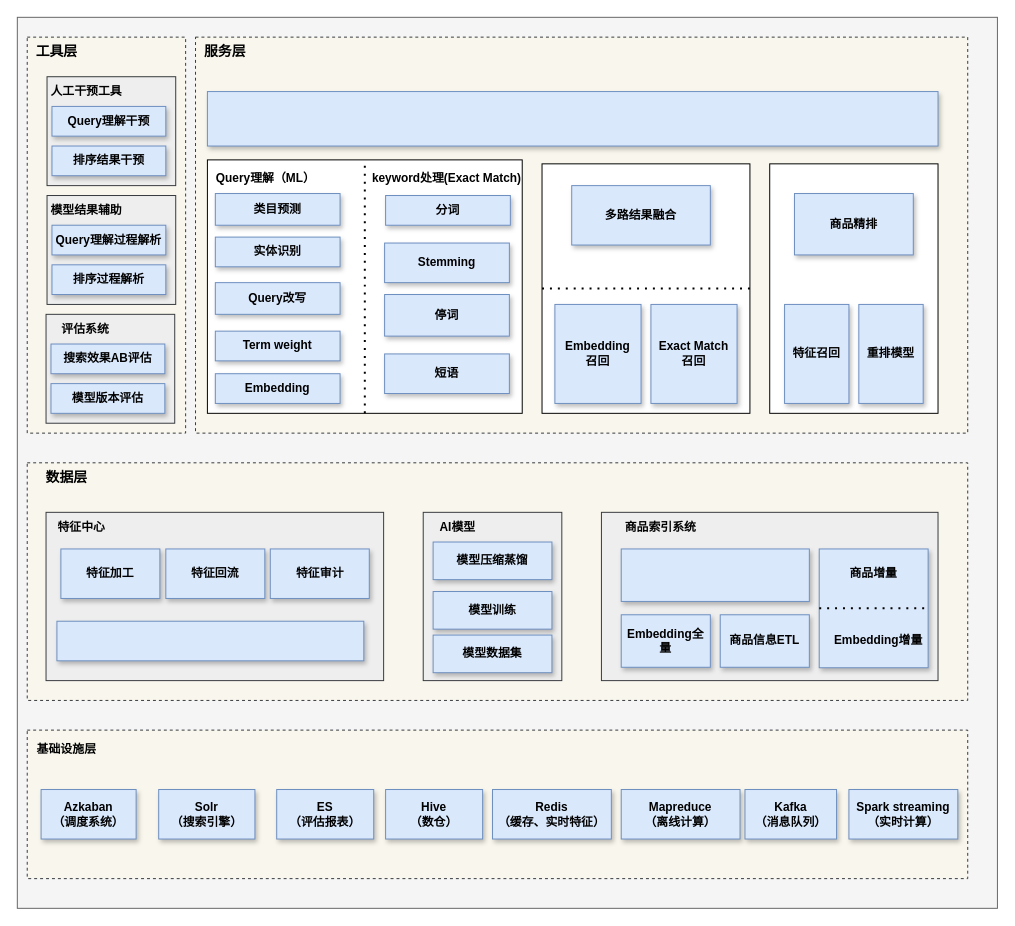
The diagram is 1015 pixels wide and 926 high, and some of its shapes have lost their labels. The centre of each missing label's shape, as x and y in pixels:
"商品全量索引" goes at (x=715, y=576).
"商品搜索业务服务" goes at (x=573, y=120).
"特征清洗" goes at (x=211, y=642).
